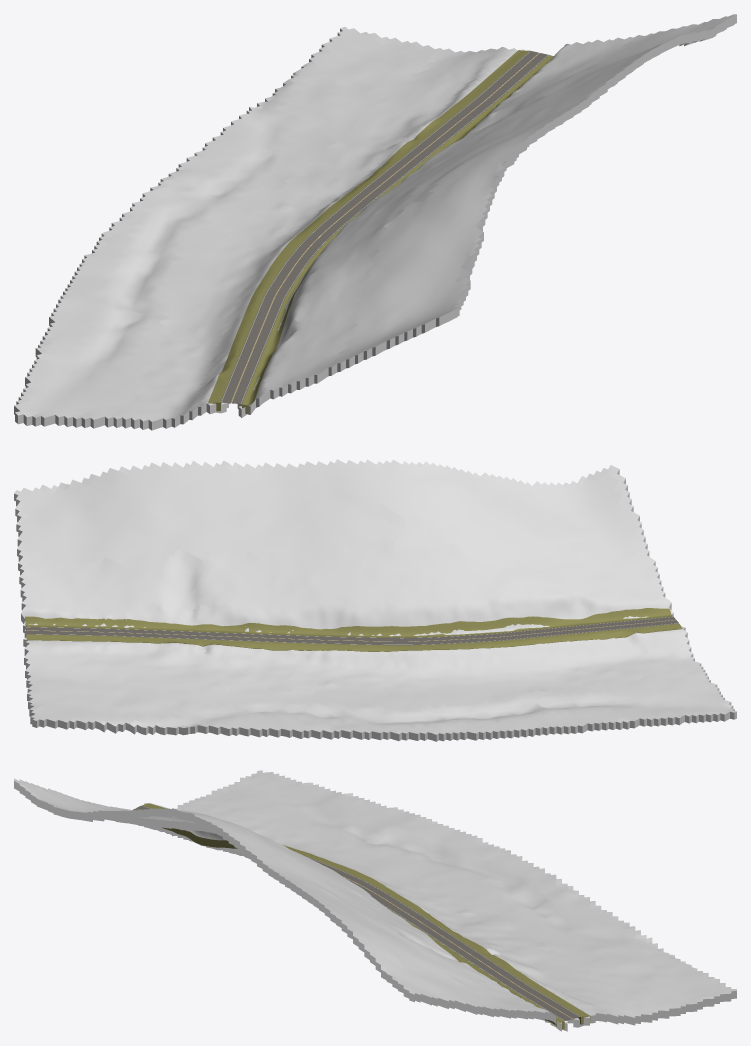
Rendered from conz_51.glb.
3 renders of one model, top to bottom at view 1: azimuth 30°, elevation 25°; view 2: azimuth 150°, elevation 25°; view 3: azimuth 270°, elevation 25°, orthographic. The views are drawn at different scales.
Visible parts, largest first — view 1: terrain51, road51, verge51L, verge51R, paint_white51; view 2: terrain51, verge51R, road51, verge51L, paint_white51, paint_yellow51; view 3: terrain51, road51, verge51L, verge51R.
Part boxes in pixels (x1=…): terrain51: x1=14, y1=14, x2=736, y2=430; road51: x1=220, y1=50, x2=548, y2=404; verge51L: x1=208, y1=50, x2=529, y2=411; verge51R: x1=242, y1=55, x2=553, y2=413; paint_white51: x1=221, y1=51, x2=547, y2=403; terrain51: x1=14, y1=459, x2=736, y2=741; verge51R: x1=25, y1=608, x2=672, y2=637; road51: x1=25, y1=616, x2=678, y2=645; verge51L: x1=26, y1=623, x2=682, y2=651; paint_white51: x1=26, y1=616, x2=678, y2=644; paint_yellow51: x1=27, y1=619, x2=675, y2=641; terrain51: x1=14, y1=770, x2=736, y2=1031; road51: x1=133, y1=805, x2=580, y2=1020; verge51L: x1=142, y1=803, x2=590, y2=1024; verge51R: x1=162, y1=827, x2=564, y2=1029.
Size of the model in its own units: 290 by 63.89 by 256.
